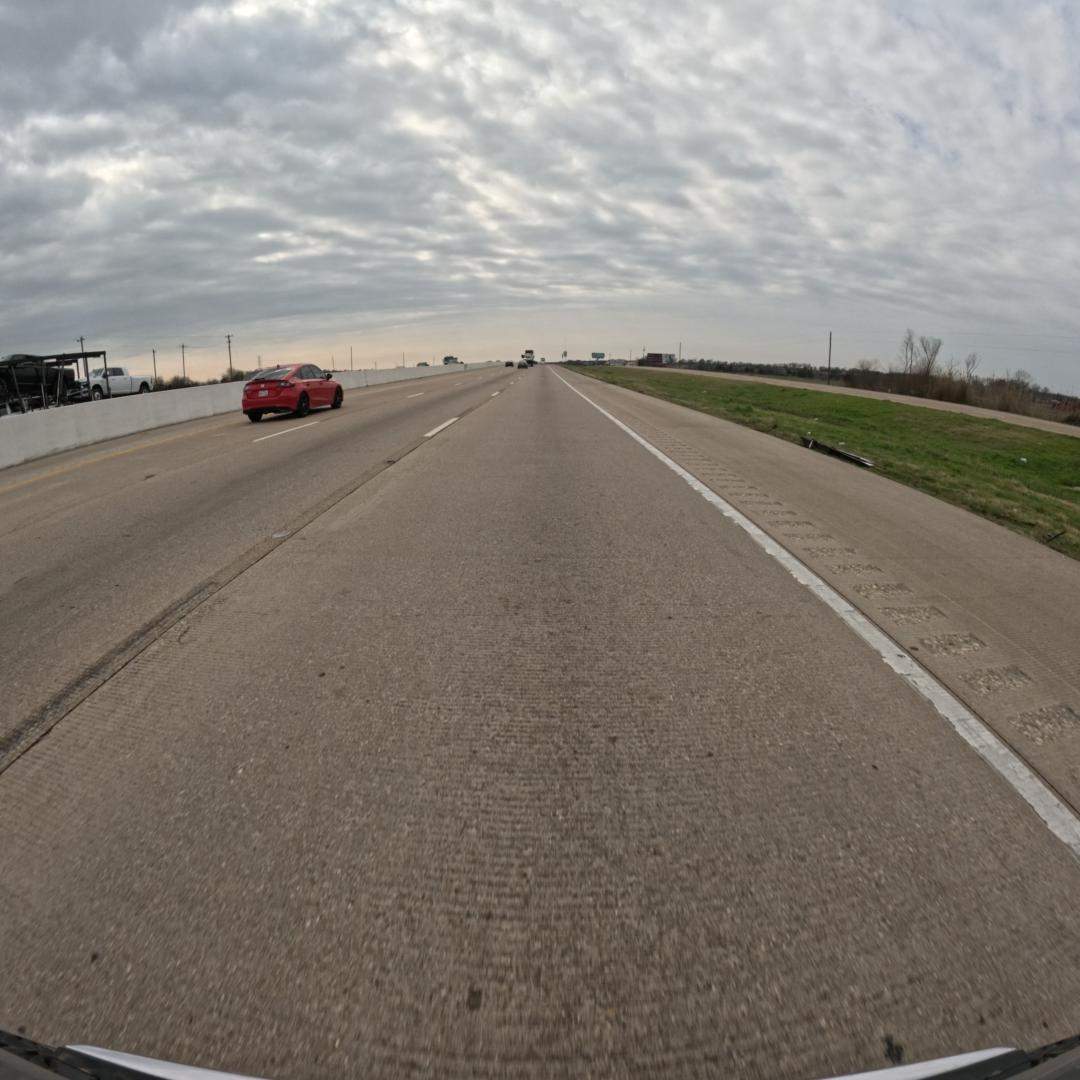lane0: (0, 371, 1080, 1076)
lane1: (0, 373, 516, 771)
